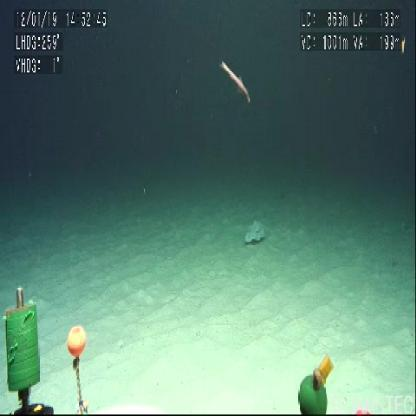Rác: (245, 224, 272, 247)
